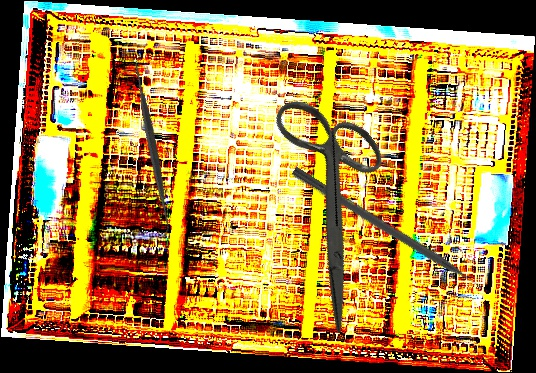Iris Scissors: (209, 74, 454, 334)
Pusher: (290, 165, 493, 300)
Spatula Surgical: (59, 54, 245, 239)
